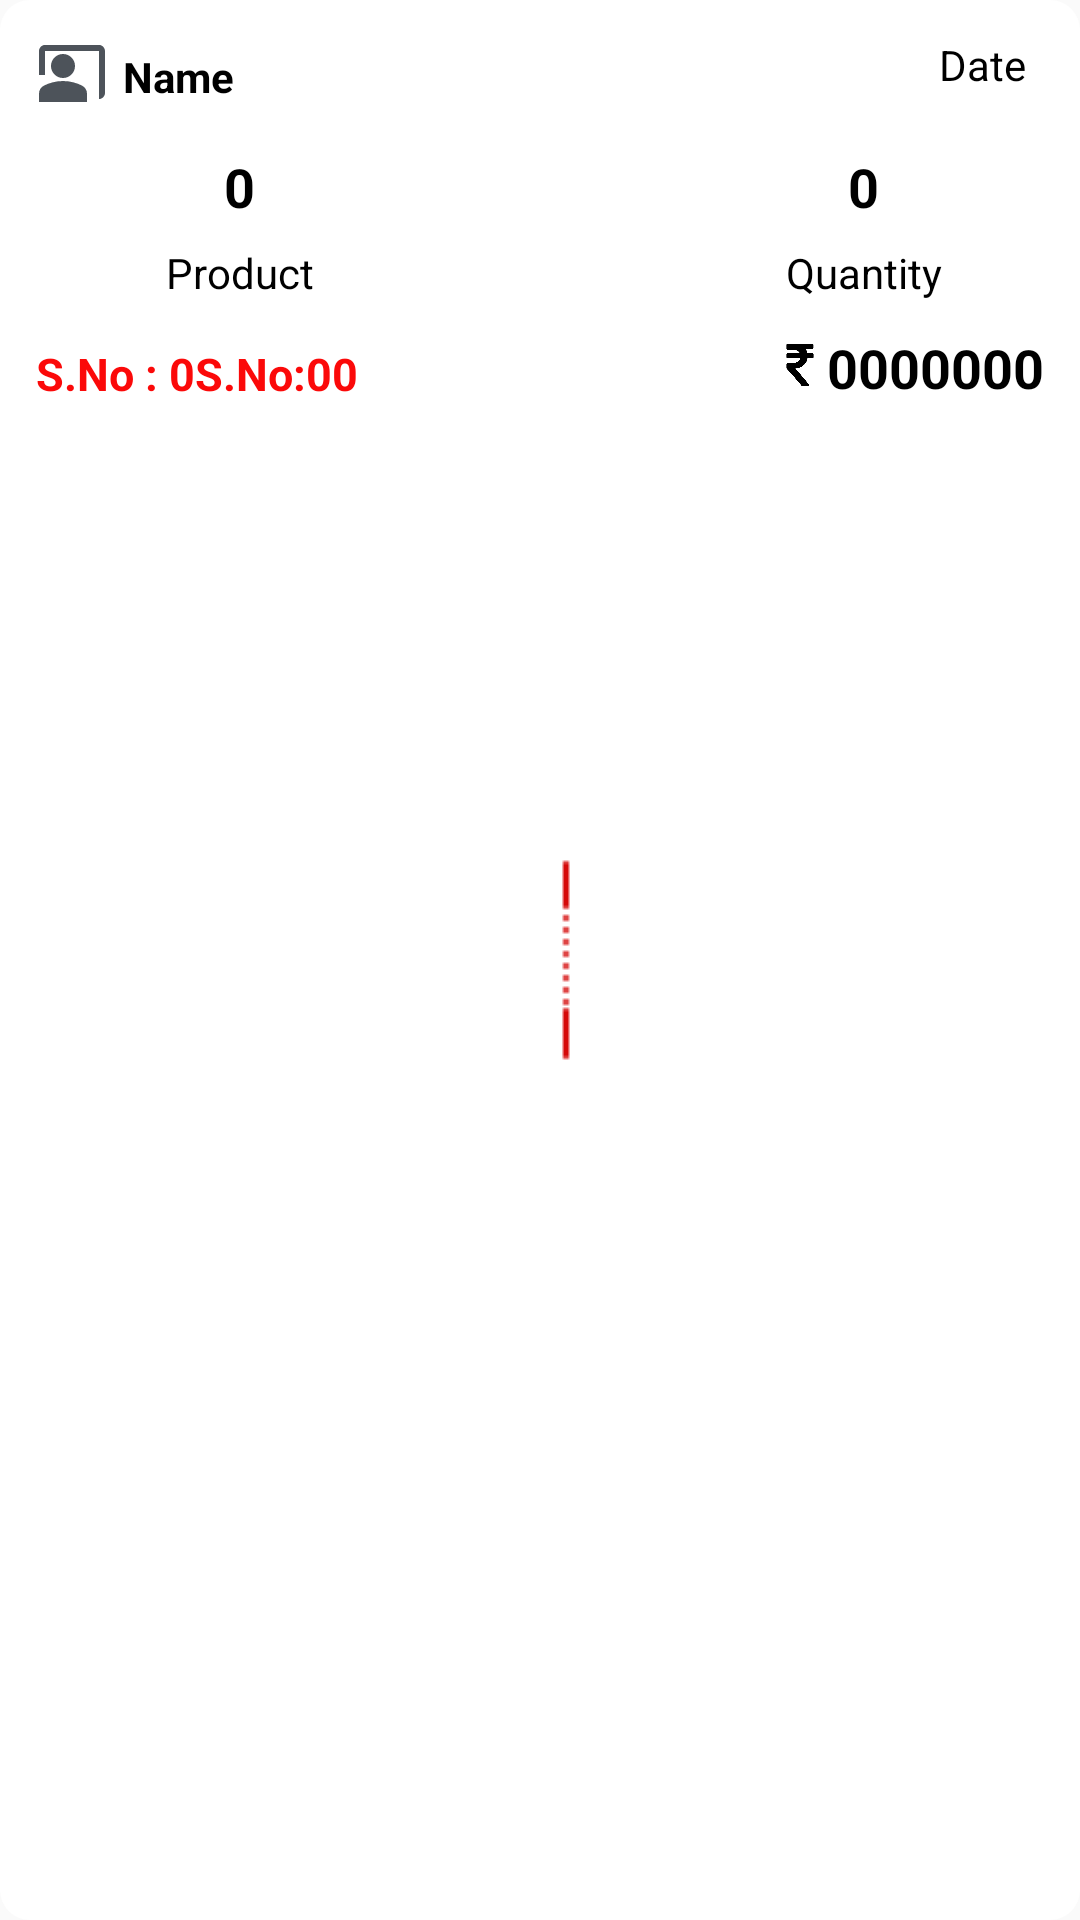

Point at icon controls on the screen. Image size 1080×1920, points as (x=x, y=y).
contect persent: (x=72, y=73)
rupee: (x=800, y=365)
